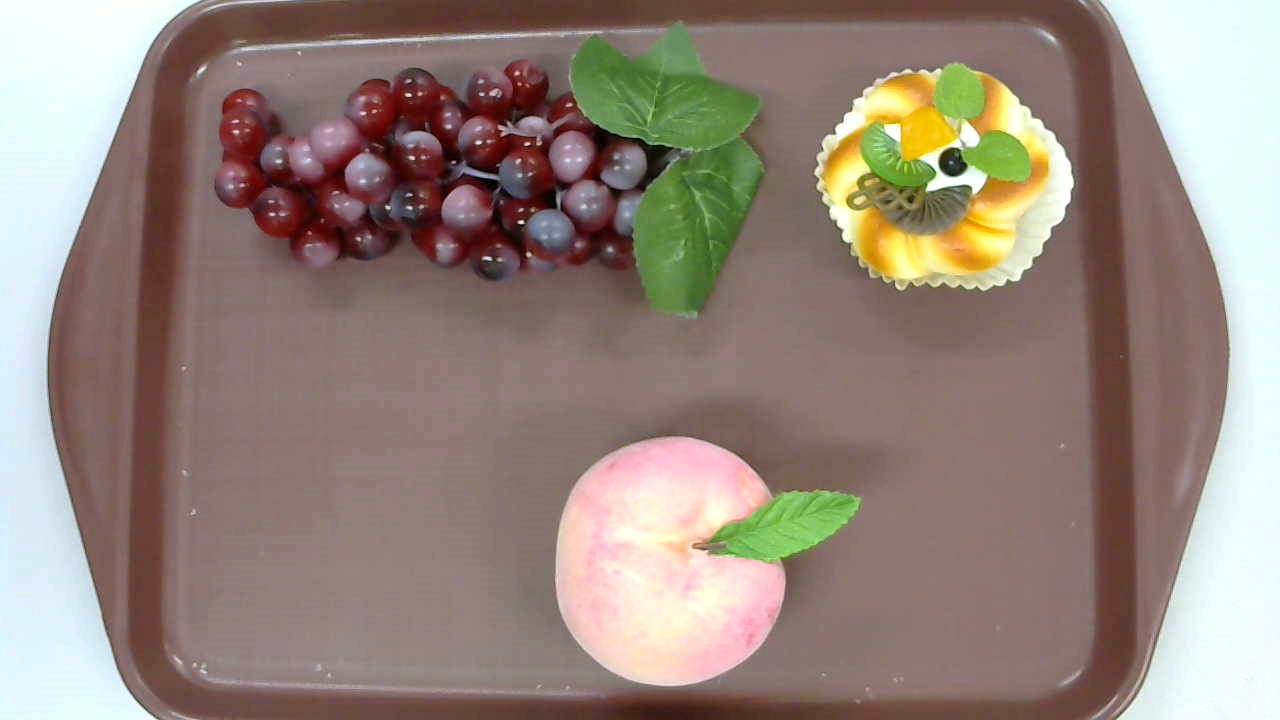fruit tart: (812, 62, 1074, 294)
grape: (212, 19, 765, 320)
peach: (553, 434, 861, 687)
